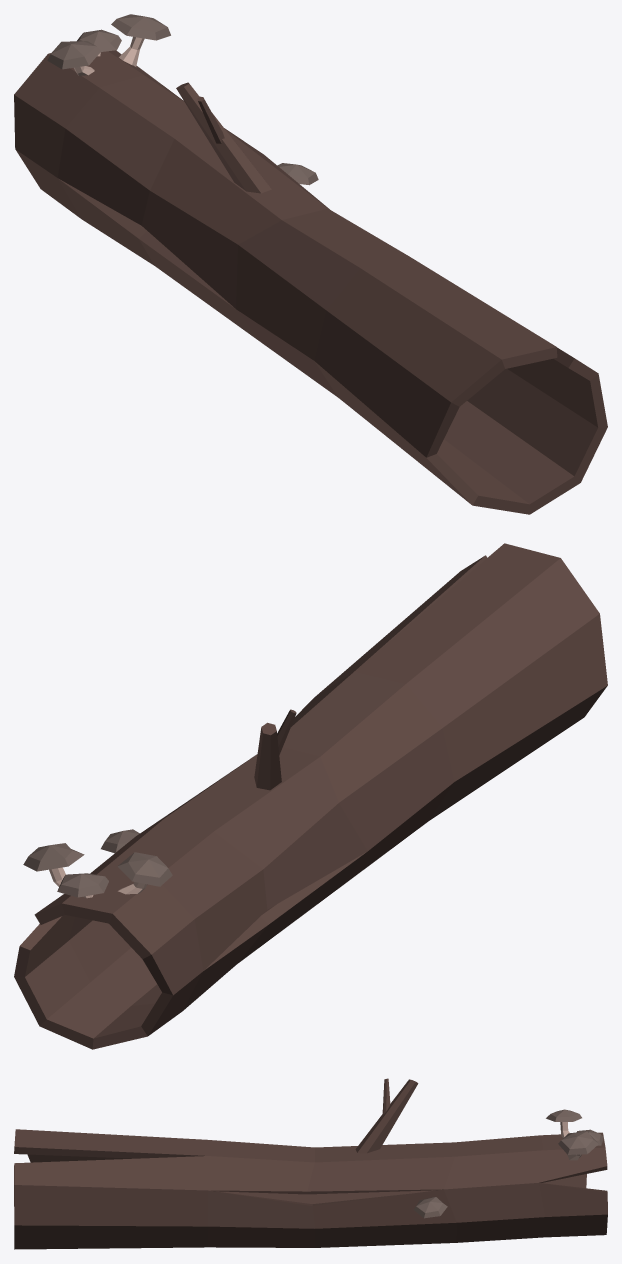
File: WoodLog.fbx
The picture shows the model from 3 angles, top to bottom: view 1: azimuth 30°, elevation 25°; view 2: azimuth 150°, elevation 25°; view 3: azimuth 270°, elevation 25°; orthographic projection. The views are drawn at different scales.
Parts seen in each view (by area): view 1: WoodLog; view 2: WoodLog; view 3: WoodLog.
Part boxes in pixels (left/top/right/bottom): WoodLog: left=14, top=14, right=607, bottom=514; WoodLog: left=14, top=543, right=607, bottom=1049; WoodLog: left=14, top=1078, right=607, bottom=1249.
Size of the model in its own units: 0.555 by 0.6562 by 2.34.
